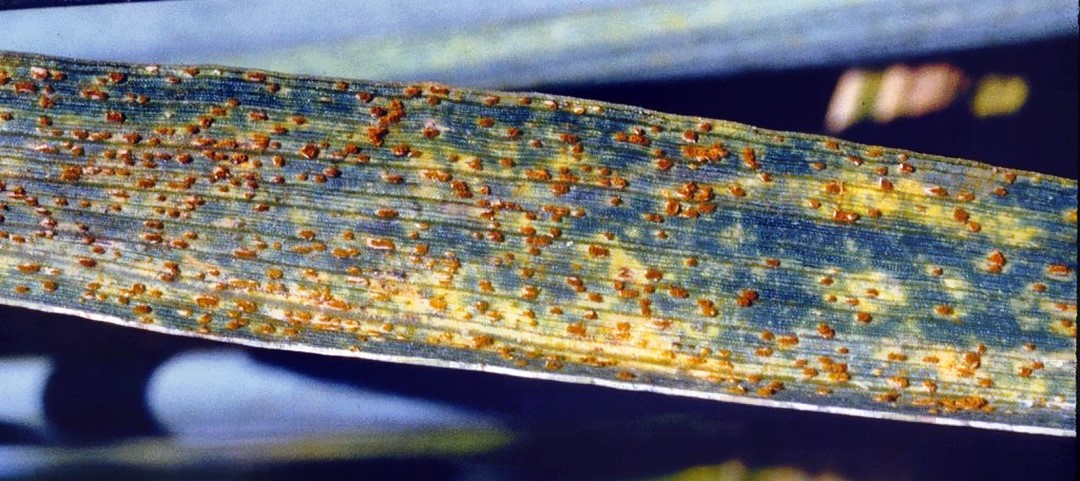Leaf Rust: (25, 75, 989, 432)
